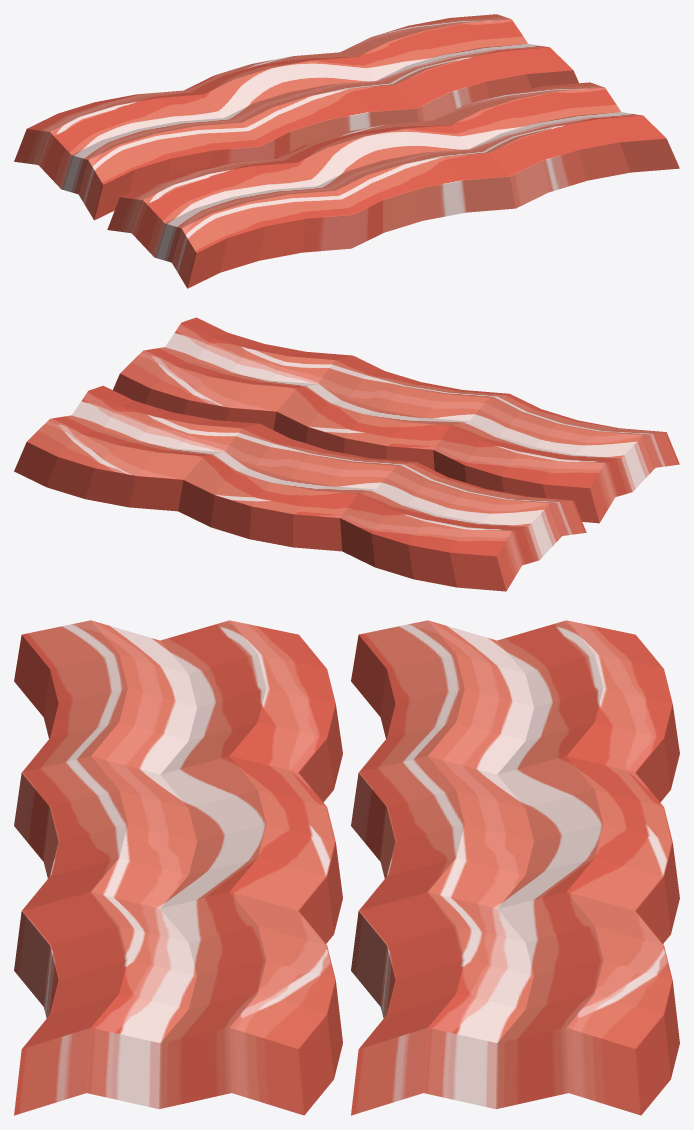
Rendered from Bacon.fbx.
3 views of the same model, one above another, from view 1: azimuth 30°, elevation 25°; view 2: azimuth 150°, elevation 25°; view 3: azimuth 270°, elevation 25° (orthographic). The views are drawn at different scales.
Parts seen in each view (by area): view 1: Bacon; view 2: Bacon; view 3: Bacon.
Boxes of the visible parts, <box> form: Bacon: <box>14,14,679,288</box>; Bacon: <box>14,317,679,591</box>; Bacon: <box>14,620,679,1115</box>.
Bounding box in the file's own units: 110 × 8.79 × 71.25.
